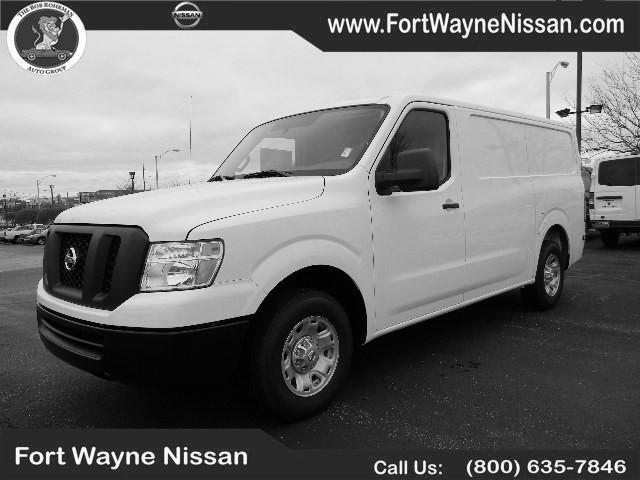car: (25, 84, 612, 431)
